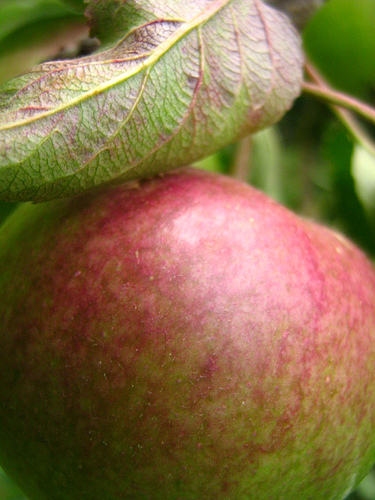apple: (1, 162, 373, 498)
